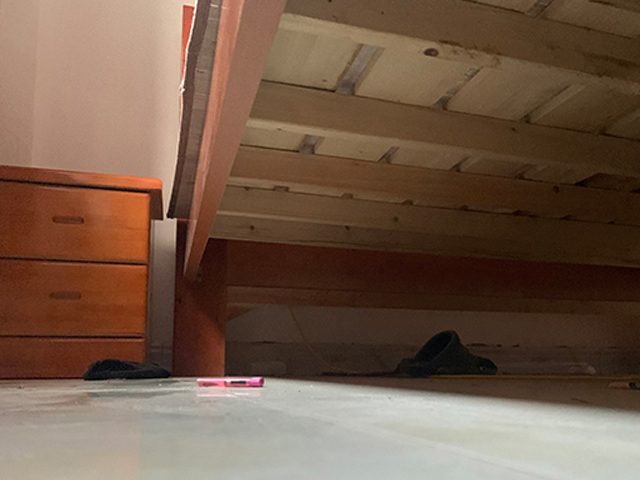bed: (167, 1, 640, 379)
cabinet: (1, 164, 164, 380)
socks: (82, 354, 166, 378)
wire: (286, 308, 378, 375)
